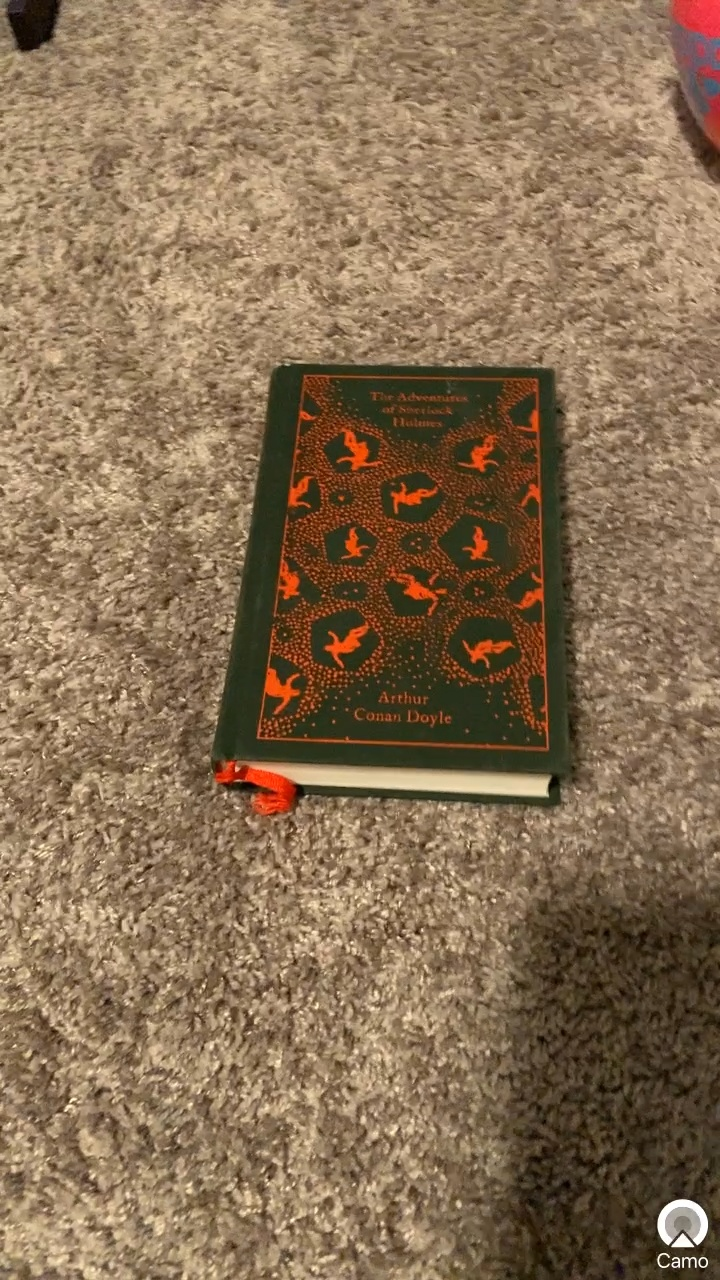Book: (201, 335, 620, 836)
